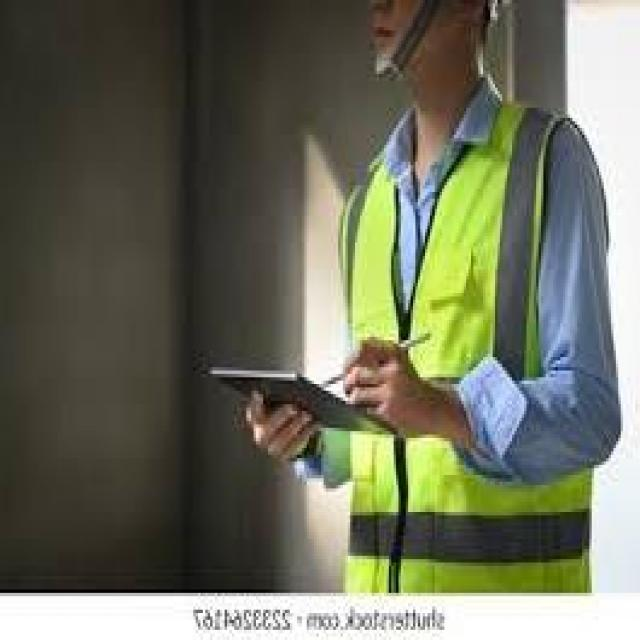Reflective-Jacket: (321, 88, 609, 600)
